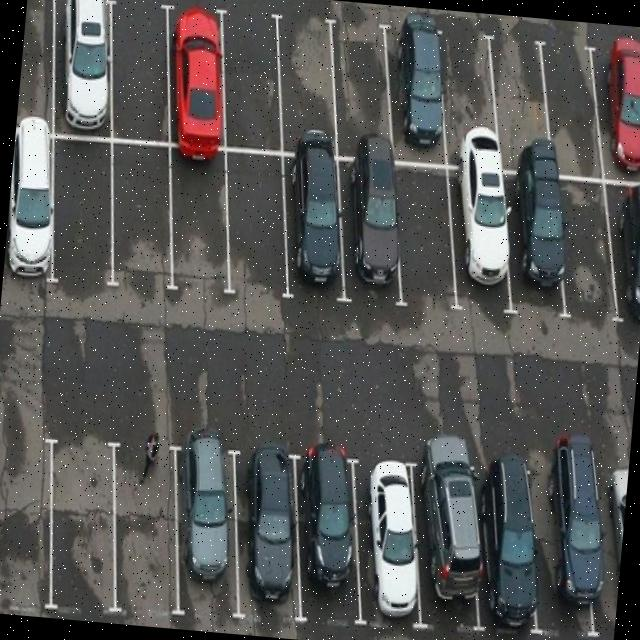Car: (404, 418, 504, 634), (342, 443, 440, 638), (466, 434, 554, 638), (279, 430, 370, 626), (225, 437, 312, 632), (328, 132, 421, 300), (541, 414, 618, 616), (168, 425, 249, 612), (444, 125, 523, 305), (155, 4, 240, 167), (371, 5, 458, 160), (276, 122, 352, 298), (3, 105, 74, 284), (38, 0, 130, 138), (500, 138, 578, 296), (580, 30, 640, 182), (592, 437, 630, 618), (607, 181, 640, 333), (0, 398, 10, 587)
Free: (23, 427, 143, 624), (91, 414, 198, 629), (148, 152, 250, 317), (204, 142, 304, 310), (96, 138, 192, 308), (37, 129, 132, 294), (207, 0, 299, 167), (256, 1, 355, 153), (99, 0, 185, 160), (383, 156, 472, 310), (520, 33, 610, 185), (0, 422, 71, 614), (468, 23, 561, 164), (314, 6, 402, 148), (552, 172, 624, 318), (432, 13, 509, 138)
